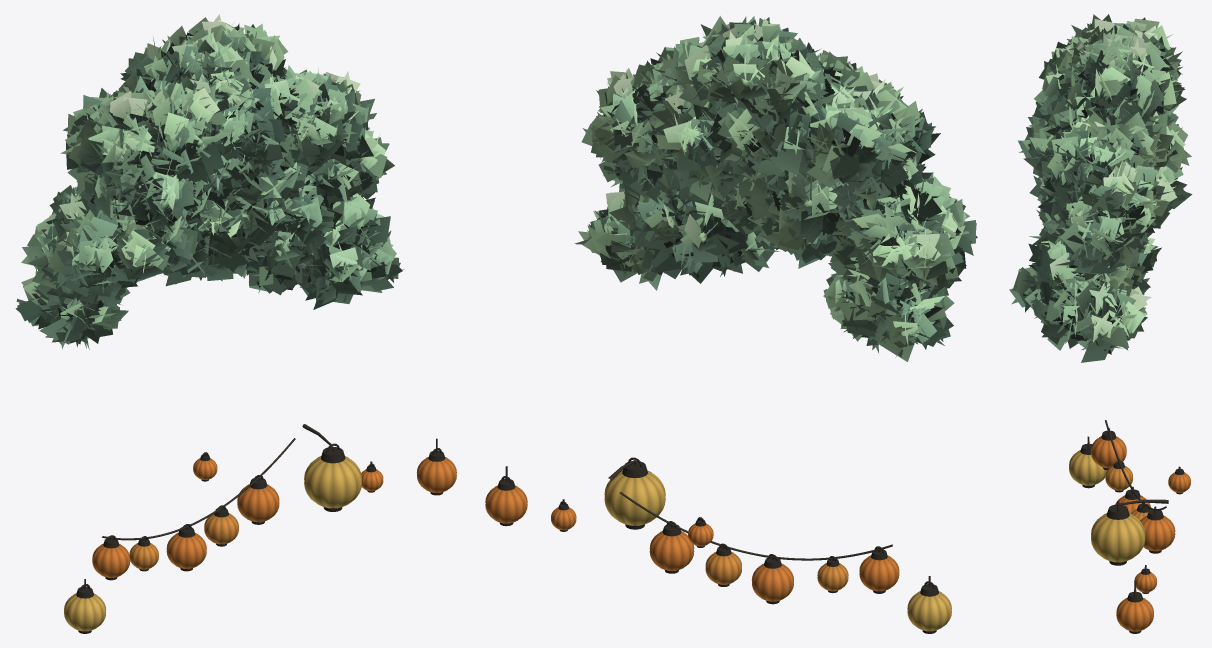
Rendered from tree-summer.glb.
3 renders of one model, left to right at view 1: azimuth 30°, elevation 25°; view 2: azimuth 150°, elevation 25°; view 3: azimuth 270°, elevation 25°, orthographic. The views are drawn at different scales.
Parts seen in each view (by area): view 1: leaves, lanterns; view 2: leaves, lanterns; view 3: leaves, lanterns.
Part boxes in pixels (x1=…): leaves: x1=15, y1=14, x2=404, y2=349; lanterns: x1=64, y1=424, x2=456, y2=633; leaves: x1=574, y1=16, x2=977, y2=361; lanterns: x1=485, y1=457, x2=951, y2=633; leaves: x1=1009, y1=14, x2=1192, y2=362; lanterns: x1=1069, y1=420, x2=1190, y2=633.
Bounding box in the file's own units: 46.88 × 57.13 × 18.76.
